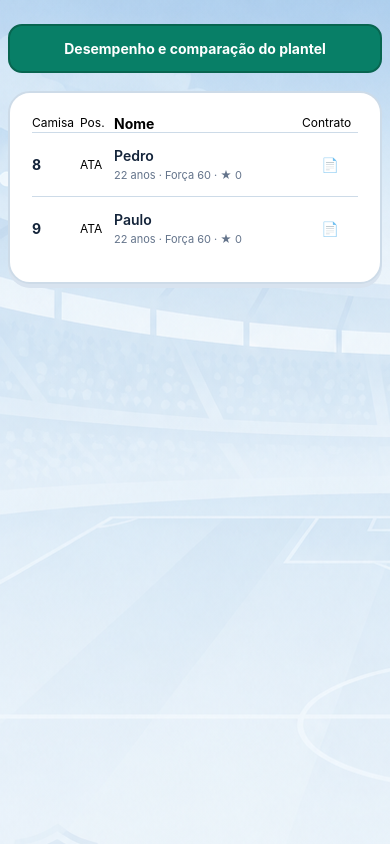
Test: edits remain available during saving and writes preserve the last choice
Click the button named "Editar camisa de Pedro" at (53, 164), box [32,148,74,181]
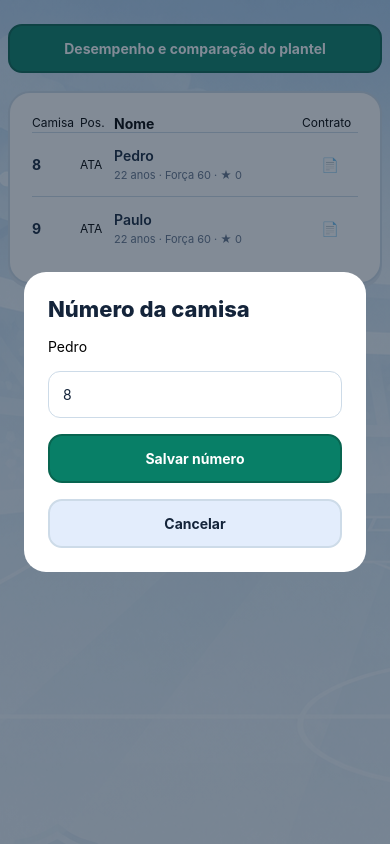
Replace the text in the field named "Número da camisa" with "11" at (195, 394), box [48,371,342,418]
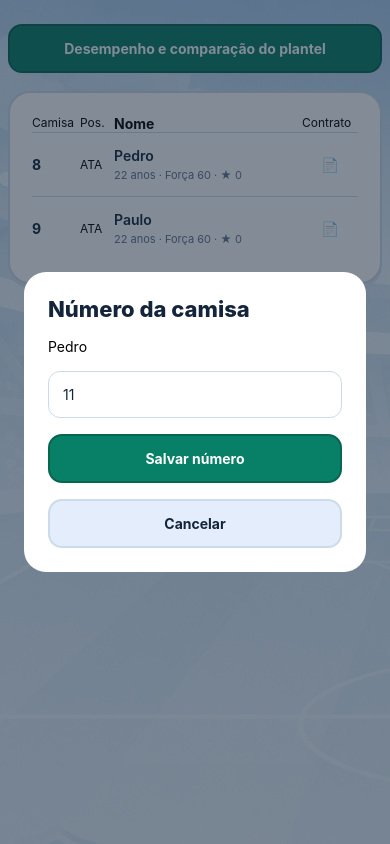
Click the button "Salvar número" at (195, 458), box [48,434,342,483]
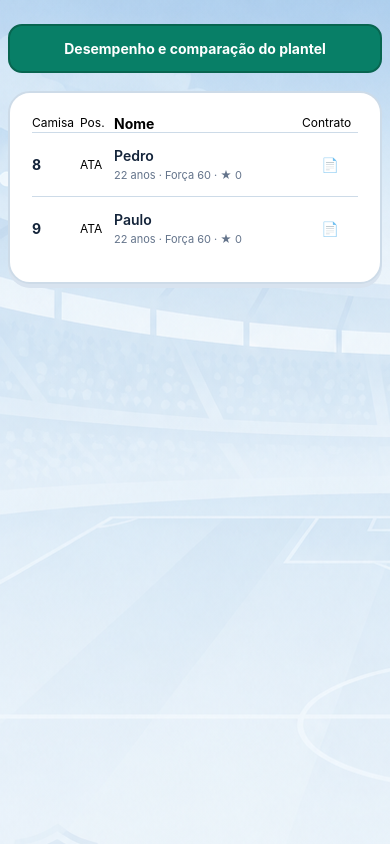
Click the button named "Editar camisa de Pedro" at (53, 164), box [32,148,74,181]
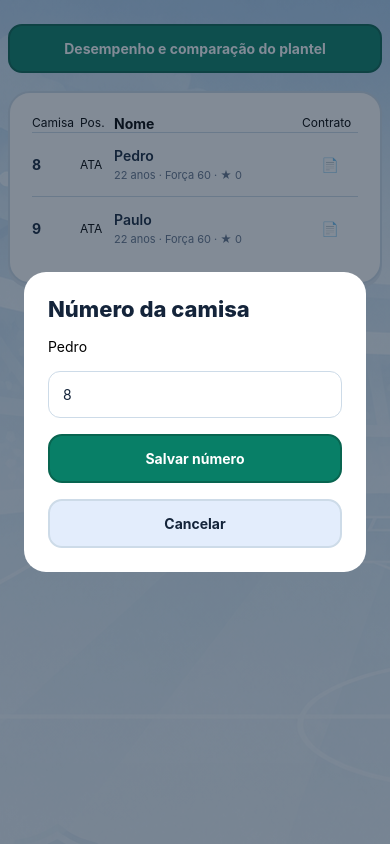
Replace the text in the field named "Número da camisa" with "12" at (195, 394), box [48,371,342,418]
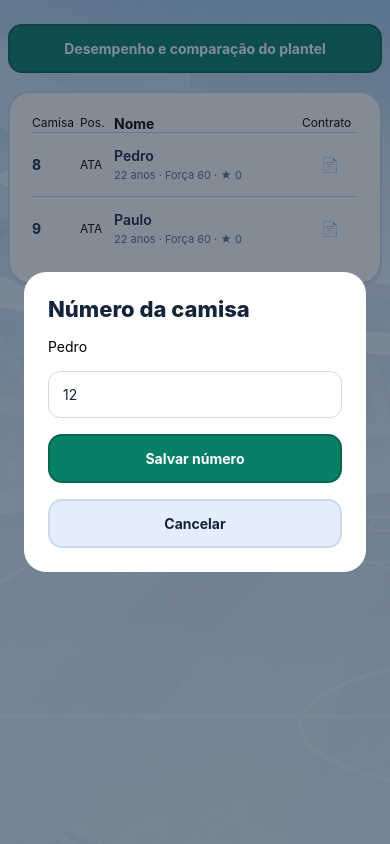
Click the button "Salvar número" at (195, 458), box [48,434,342,483]
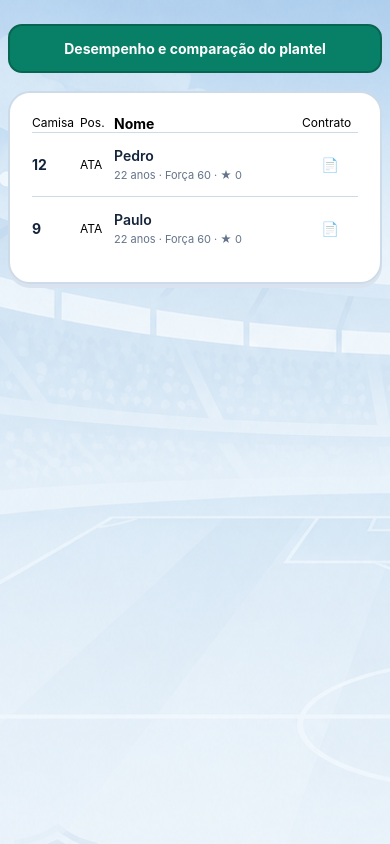
Result: the text "12" is shown at [32,156,47,173]
